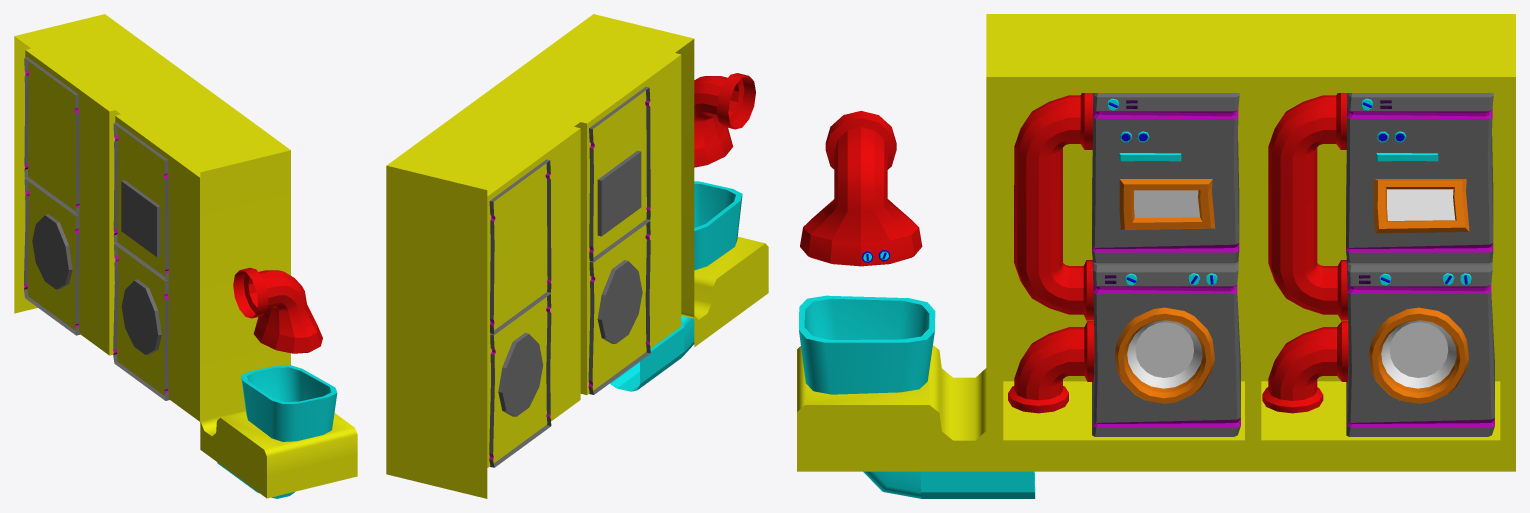
The model's file is Laundry_Washer.fbx.
3 renders of one model, left to right at view 1: azimuth 30°, elevation 25°; view 2: azimuth 150°, elevation 25°; view 3: azimuth 270°, elevation 25°, orthographic. The views are drawn at different scales.
Parts seen in each view (by area): view 1: Washer; view 2: Washer; view 3: Washer.
Part boxes in pixels (left/top/right/bottom): Washer: left=14, top=14, right=357, bottom=498; Washer: left=386, top=14, right=768, bottom=498; Washer: left=797, top=14, right=1515, bottom=498.
Size of the model in its own units: 144 by 423 by 615.
